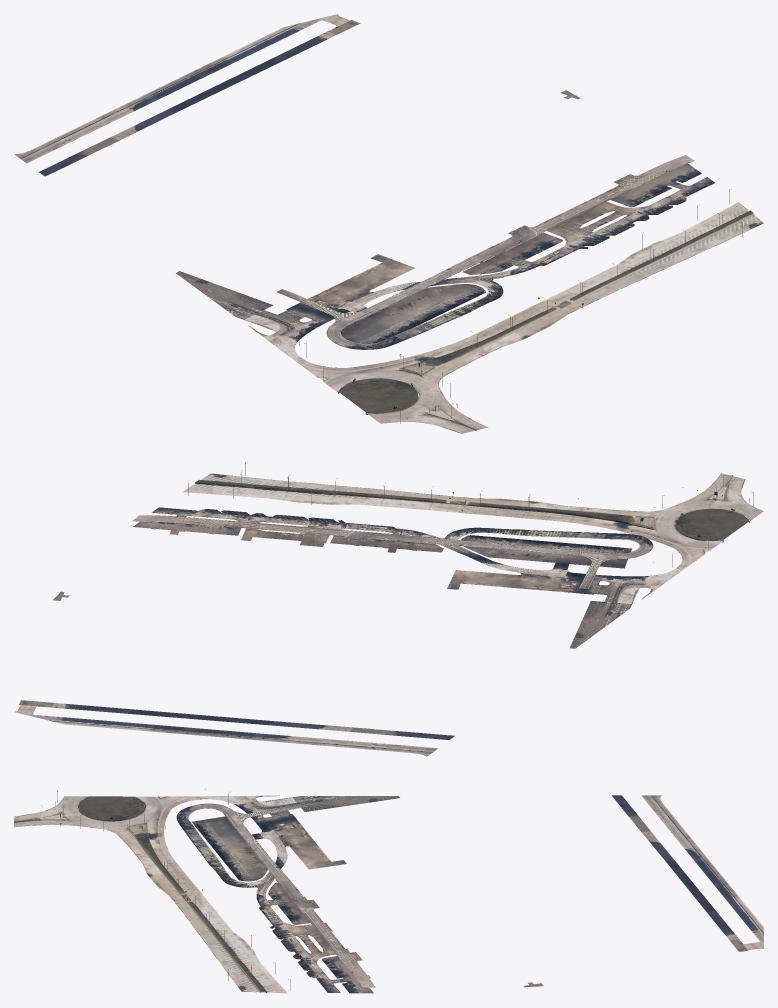
The model's file is roads_context_11.glb.
3 views of the same model, one above another, from view 1: azimuth 30°, elevation 25°; view 2: azimuth 150°, elevation 25°; view 3: azimuth 270°, elevation 25° (orthographic). The views are drawn at different scales.
Visible parts, largest first — view 1: I105001740001062A1.001; view 2: I105001740001062A1.001; view 3: I105001740001062A1.001.
Part boxes in pixels (x1,y1,x2,y2): I105001740001062A1.001: [14, 14, 763, 433]; I105001740001062A1.001: [14, 462, 763, 756]; I105001740001062A1.001: [14, 789, 763, 993].
Size of the model in its own units: 374 by 12.88 by 600.
8 materials, 8 textured.
